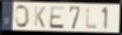1: (101, 6, 109, 31)
7: (68, 6, 81, 30)
E: (49, 5, 66, 30)
K: (33, 6, 46, 29)
L: (84, 6, 99, 31)
O: (14, 5, 30, 30)
